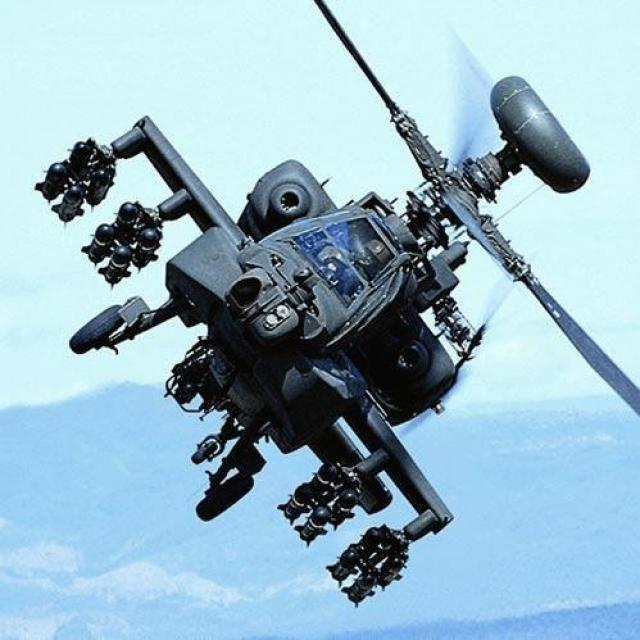MIL_HELO: (38, 3, 640, 631)
